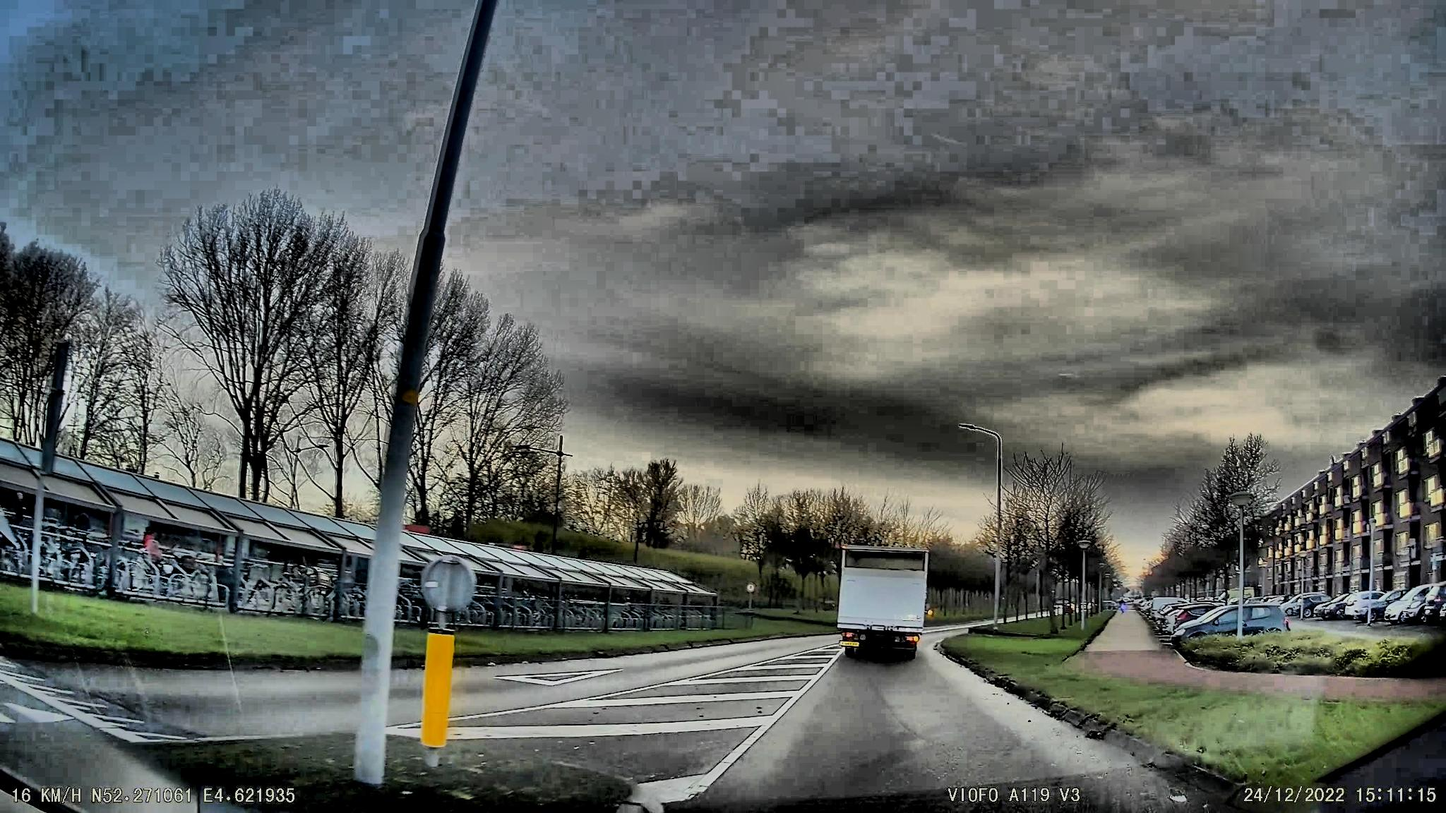Roads: (446, 637, 1240, 813), (12, 661, 429, 739)
